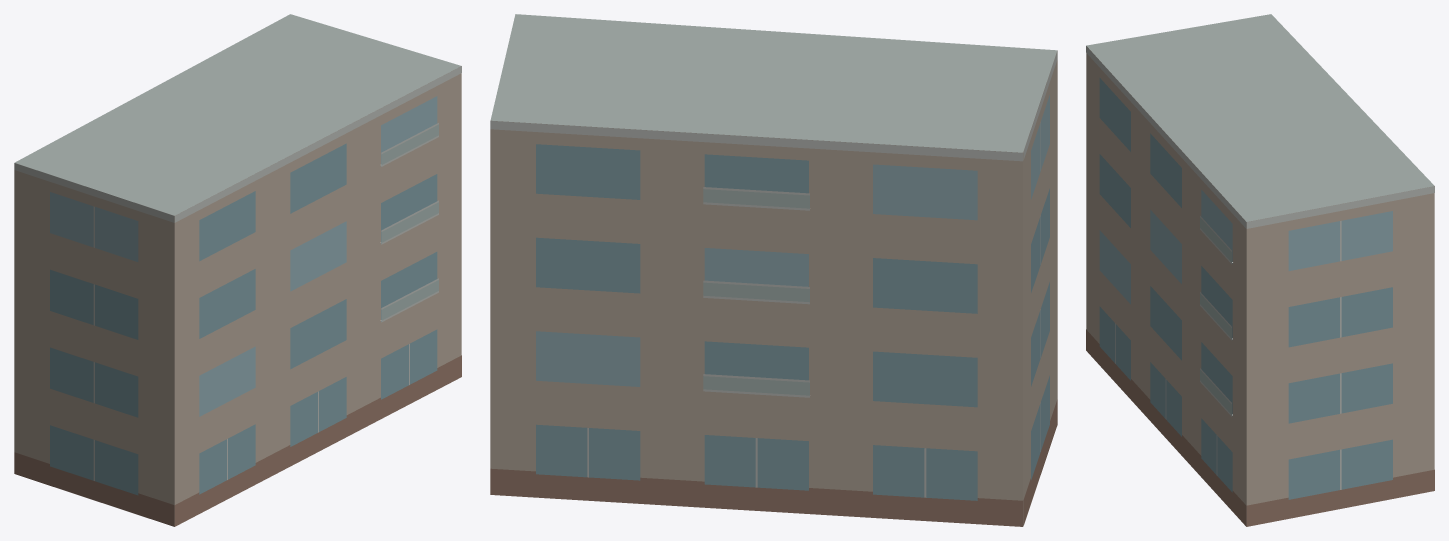
Rendered from survey-upis-33044846.glb.
3 views of the same model, side by side, from view 1: azimuth 30°, elevation 25°; view 2: azimuth 150°, elevation 25°; view 3: azimuth 270°, elevation 25° (orthographic). The views are drawn at different scales.
Visible parts, largest first — view 1: survey-upis-33044846.tmp; view 2: survey-upis-33044846.tmp; view 3: survey-upis-33044846.tmp.
Boxes of the visible parts, x1=… form: survey-upis-33044846.tmp: x1=14, y1=14, x2=461, y2=526; survey-upis-33044846.tmp: x1=490, y1=14, x2=1057, y2=526; survey-upis-33044846.tmp: x1=1086, y1=14, x2=1434, y2=526.
Size of the model in its own units: 15.52 by 10.6 by 11.
